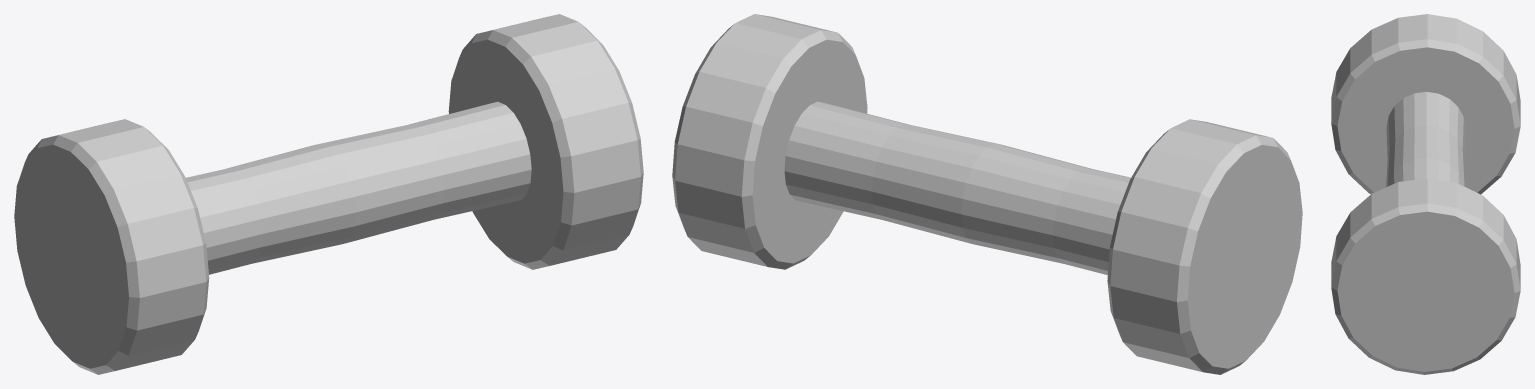
File: ChromeDumbbells.001.fbx
3 views of the same model, side by side, from view 1: azimuth 30°, elevation 25°; view 2: azimuth 150°, elevation 25°; view 3: azimuth 270°, elevation 25° (orthographic). The views are drawn at different scales.
Visible parts, largest first — view 1: ChromeDumbblells.001; view 2: ChromeDumbblells.001; view 3: ChromeDumbblells.001.
Part boxes in pixels (x1,y1,x2,y2): ChromeDumbblells.001: (14, 14, 643, 374); ChromeDumbblells.001: (672, 14, 1302, 374); ChromeDumbblells.001: (1331, 14, 1520, 374).
Bounding box in the file's own units: 15.27 × 6.33 × 6.3.
